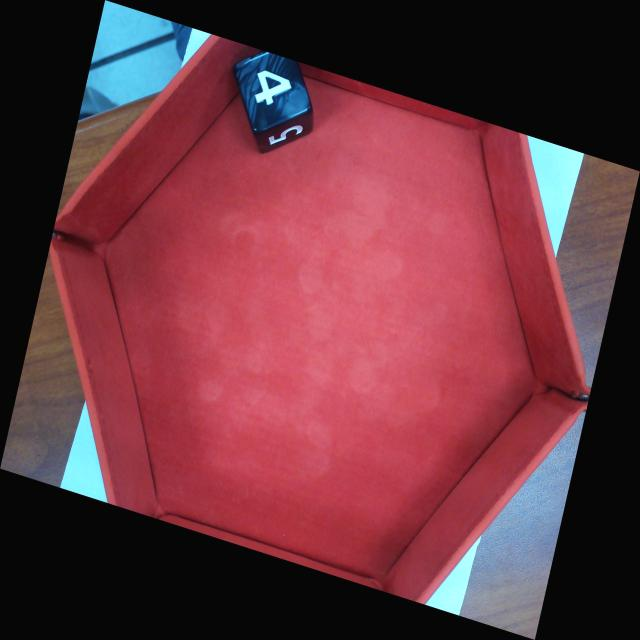dice: (227, 39, 316, 140)
